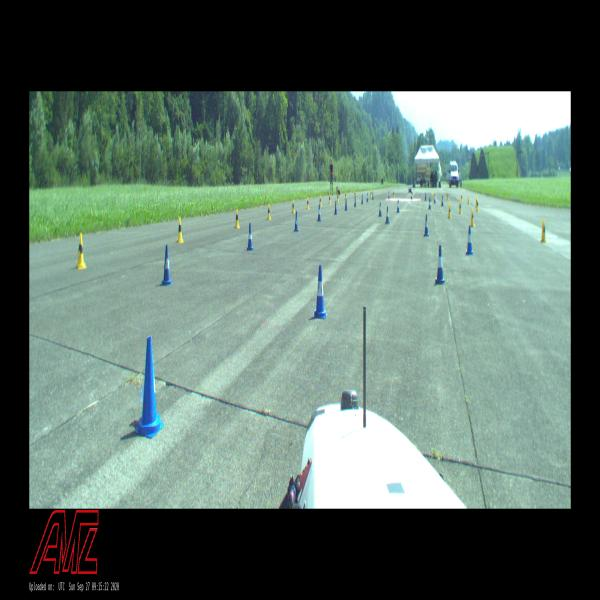blue_cone: (134, 337, 164, 438), (312, 265, 328, 319), (162, 244, 173, 285), (435, 244, 445, 284), (466, 226, 473, 254), (247, 223, 254, 250), (424, 214, 429, 236), (294, 211, 299, 231), (386, 206, 390, 224), (317, 205, 321, 220), (378, 202, 382, 217), (334, 201, 337, 214), (344, 198, 347, 210), (433, 193, 436, 204), (354, 196, 357, 207), (428, 198, 431, 208), (441, 196, 444, 206), (366, 193, 369, 202), (397, 200, 399, 212), (424, 192, 426, 201), (388, 191, 390, 198), (372, 192, 374, 199), (362, 194, 363, 204), (411, 192, 412, 199)
yellow_cone: (76, 233, 87, 269), (177, 216, 184, 242), (541, 219, 546, 242), (235, 209, 240, 228), (471, 209, 475, 226), (267, 204, 271, 220), (448, 203, 452, 218), (292, 200, 295, 213), (306, 197, 309, 209), (476, 199, 479, 211), (459, 201, 461, 213), (329, 193, 331, 204), (320, 196, 322, 206), (467, 195, 469, 204), (337, 193, 339, 202), (370, 190, 372, 198), (447, 192, 449, 199), (476, 196, 477, 208), (461, 193, 462, 202), (393, 190, 394, 198), (345, 191, 346, 199)
